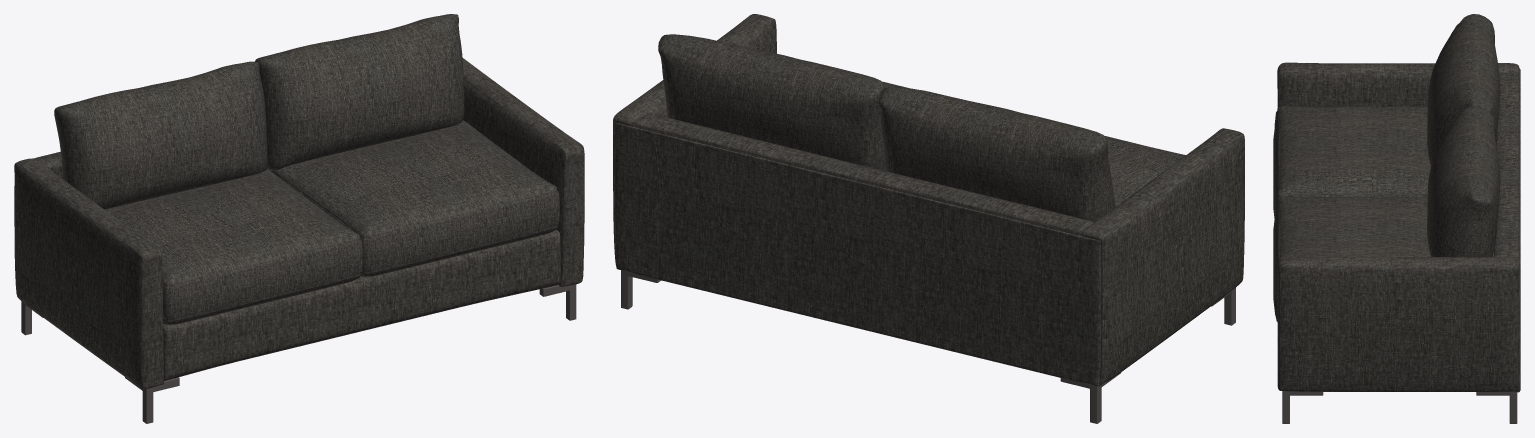
File: sofa_B07B4MPVZG.glb
The picture shows the model from 3 angles, left to right: view 1: azimuth 30°, elevation 25°; view 2: azimuth 150°, elevation 25°; view 3: azimuth 270°, elevation 25°; orthographic projection. The views are drawn at different scales.
Visible parts, largest first — view 1: RootNode; view 2: RootNode; view 3: RootNode.
Part boxes in pixels (x1,y1,x2,y2): RootNode: (14,14,584,423); RootNode: (613,14,1244,423); RootNode: (1273,14,1520,423).
Size of the model in its own units: 1.72 by 0.8625 by 0.8657.
Materials: 1 (1 with a texture image).
